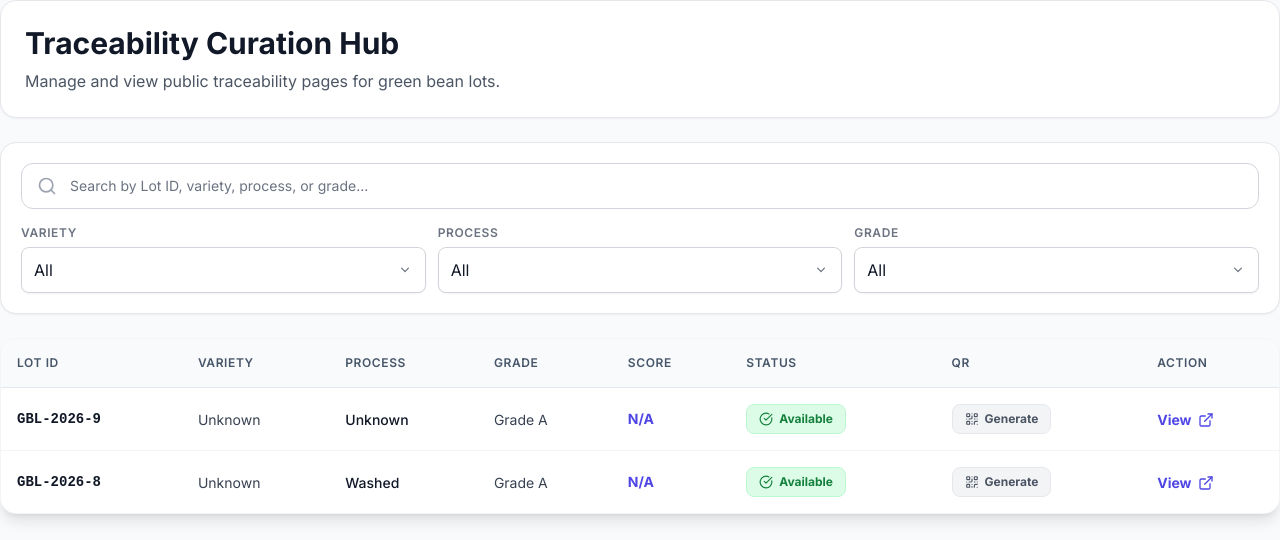
Traceability Hub unknown process › shows Unknown for a lot without a process and offers it last in the filter
Click the 2nd button "All" at coordinates (460, 270), box top-left (438, 247), bottom-right (842, 293)
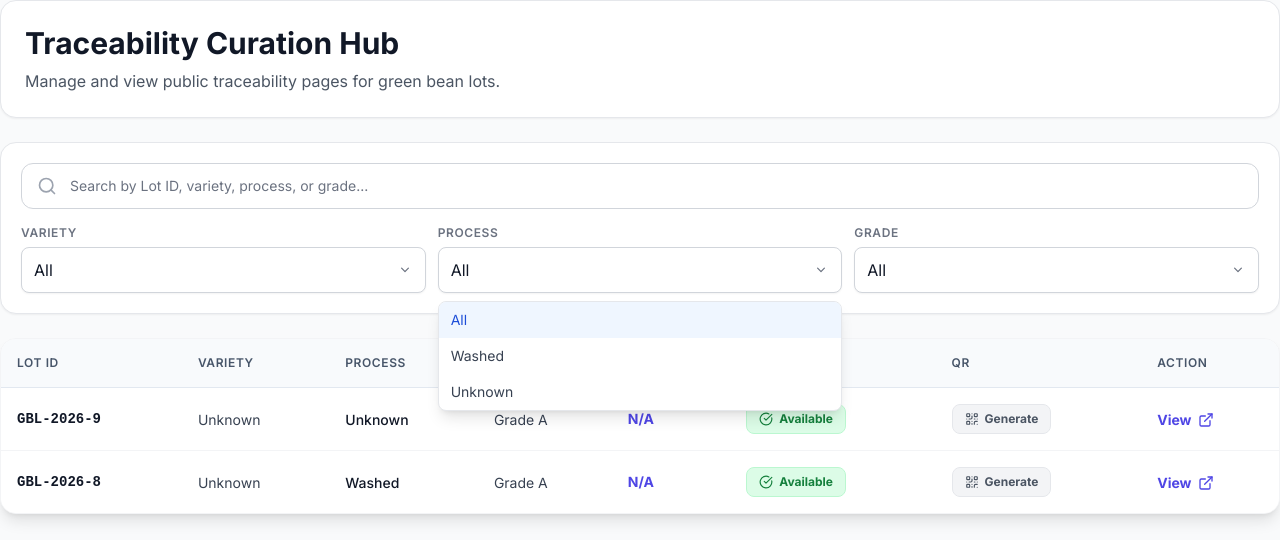
Click the button "Unknown" at coordinates (482, 392), box top-left (439, 374), bottom-right (841, 410)
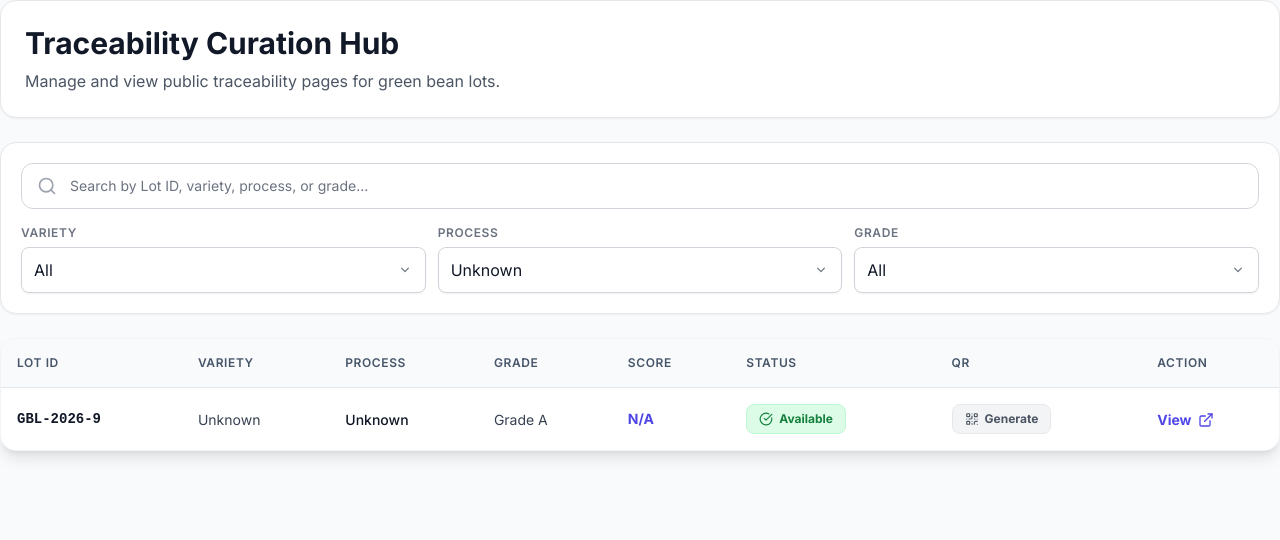
Expected: the text titled "99999999-0000-4000-8000-000000000009" is shown, top-left (17, 409), bottom-right (101, 429)
Expected: the text titled "88888888-0000-4000-8000-000000000008" is gone
